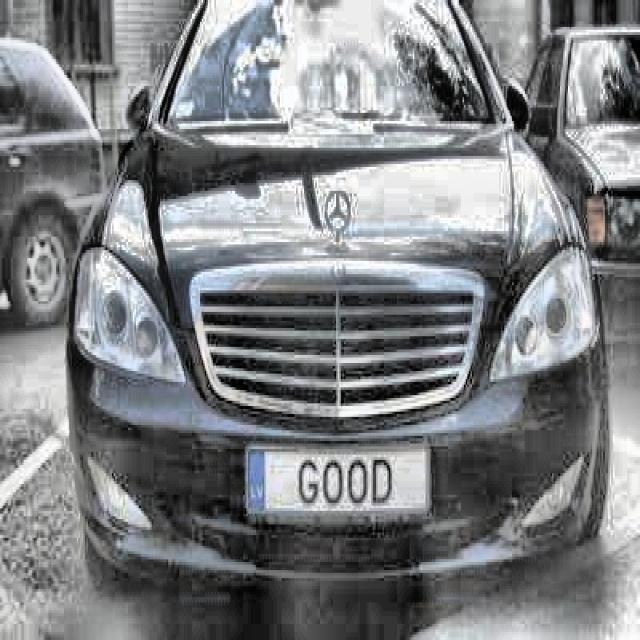license_plate: (246, 444, 430, 518)
